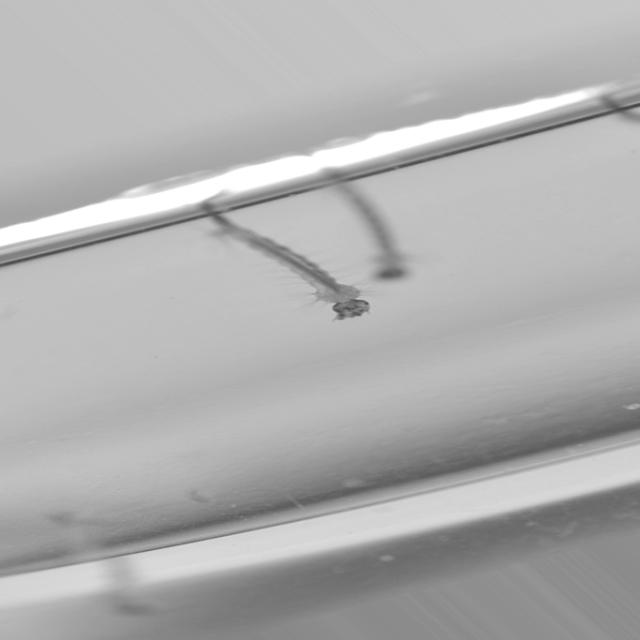larvas: (205, 197, 382, 335), (333, 176, 414, 285)
